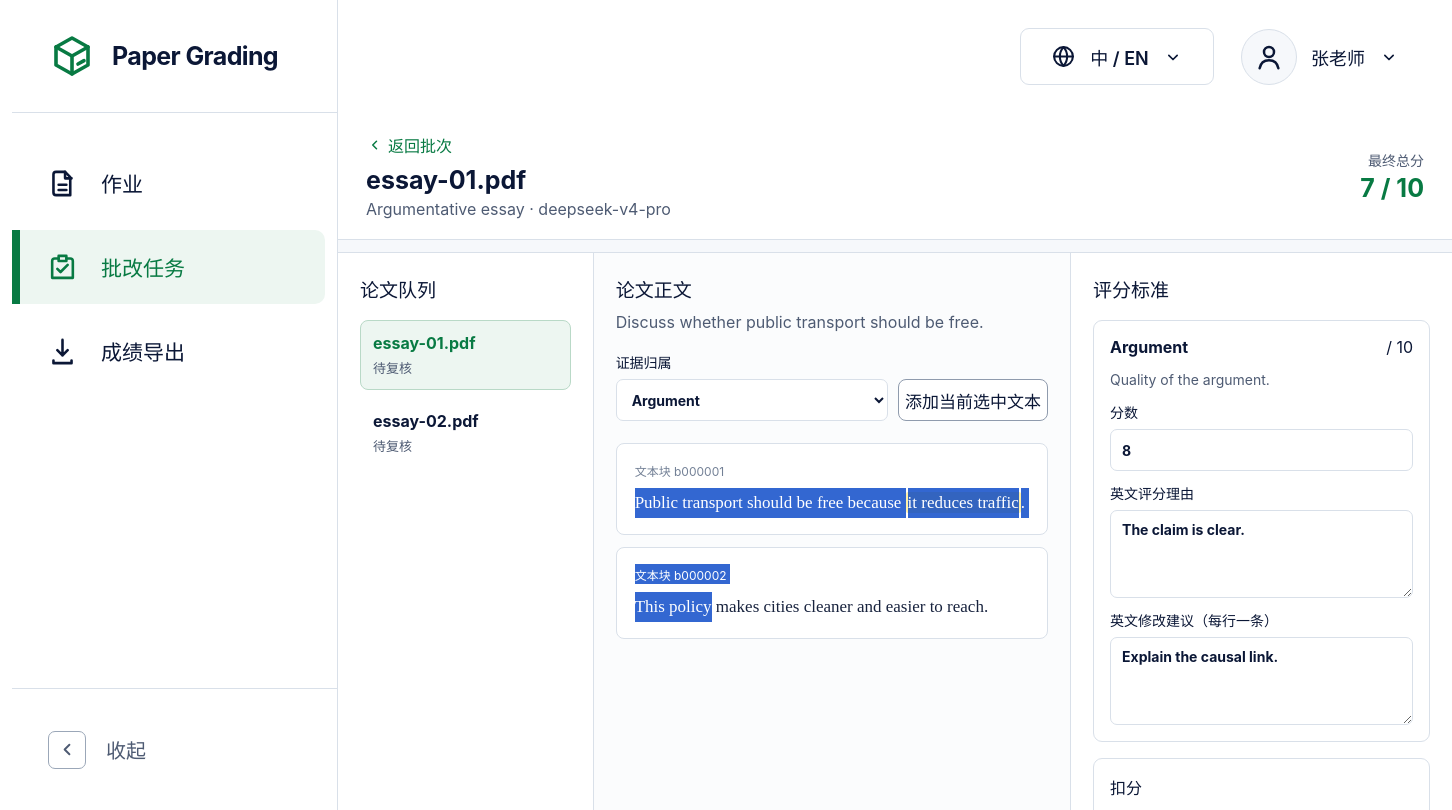
stage 11 teacher review › rejects a selection that crosses text blocks
Click the button "添加当前选中文本": (973, 400) x1=898 y1=379 x2=1048 y2=421
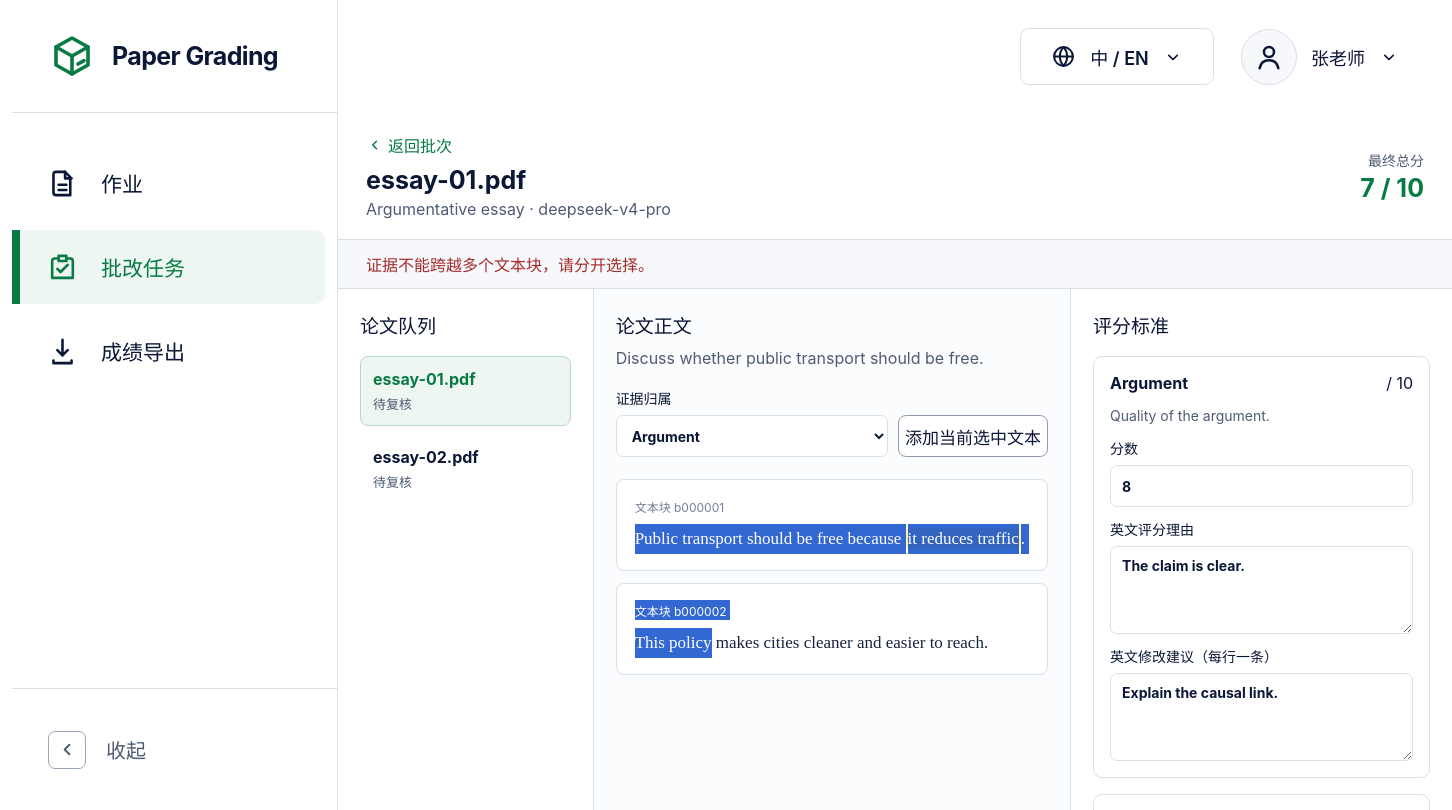
Now the message shows "证据不能跨越多个文本块", box x1=366 y1=255 x2=654 y2=275
